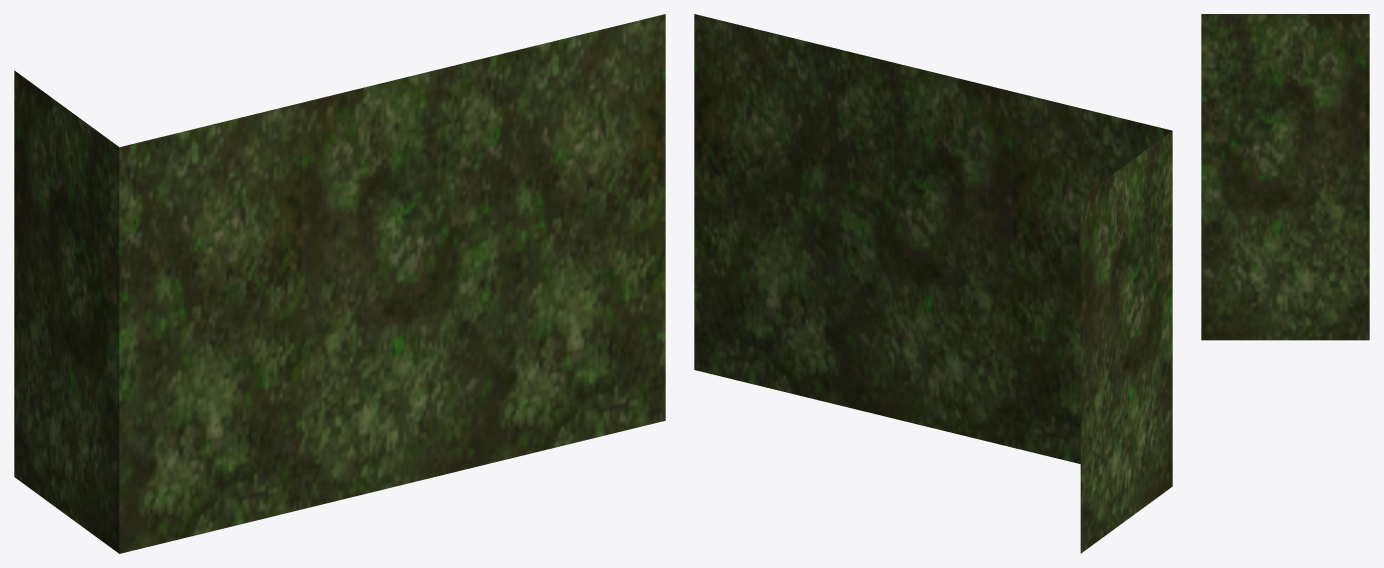
File: OVERHILL_A_01_LINE230.fbx
The picture shows the model from 3 angles, left to right: view 1: azimuth 30°, elevation 25°; view 2: azimuth 150°, elevation 25°; view 3: azimuth 270°, elevation 25°; orthographic projection. The views are drawn at different scales.
Parts seen in each view (by area): view 1: OVERHILL_A_01_LINE230; view 2: OVERHILL_A_01_LINE230; view 3: OVERHILL_A_01_LINE230.
Part boxes in pixels (x1,y1,x2,y2): OVERHILL_A_01_LINE230: (14, 14, 665, 553); OVERHILL_A_01_LINE230: (694, 14, 1172, 553); OVERHILL_A_01_LINE230: (1201, 14, 1369, 340).
Bounding box in the file's own units: 30000 × 21350 × 10000.
1 material, 1 textured.
